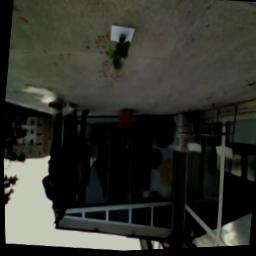herb: (106, 37, 132, 74)
